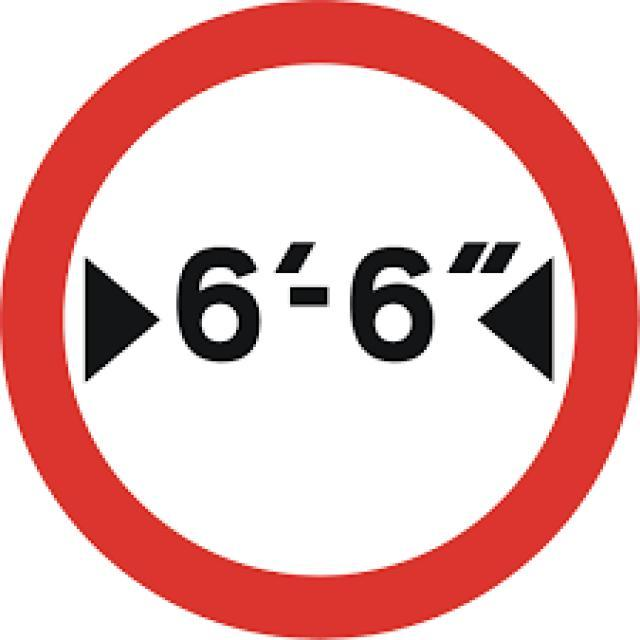width limit: (20, 20, 621, 621)
